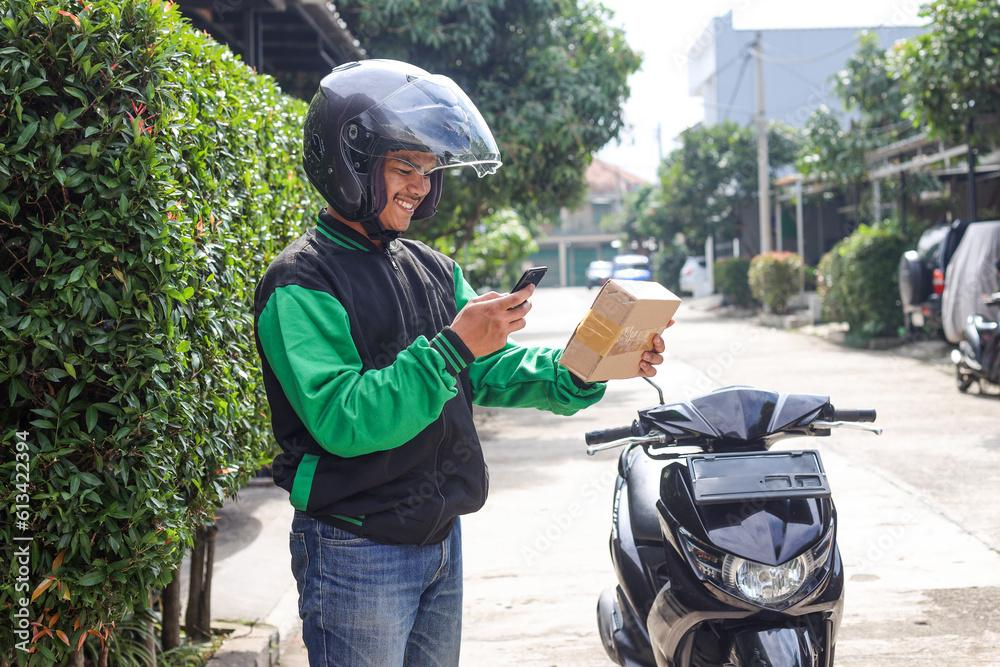helmet: (302, 57, 504, 243)
